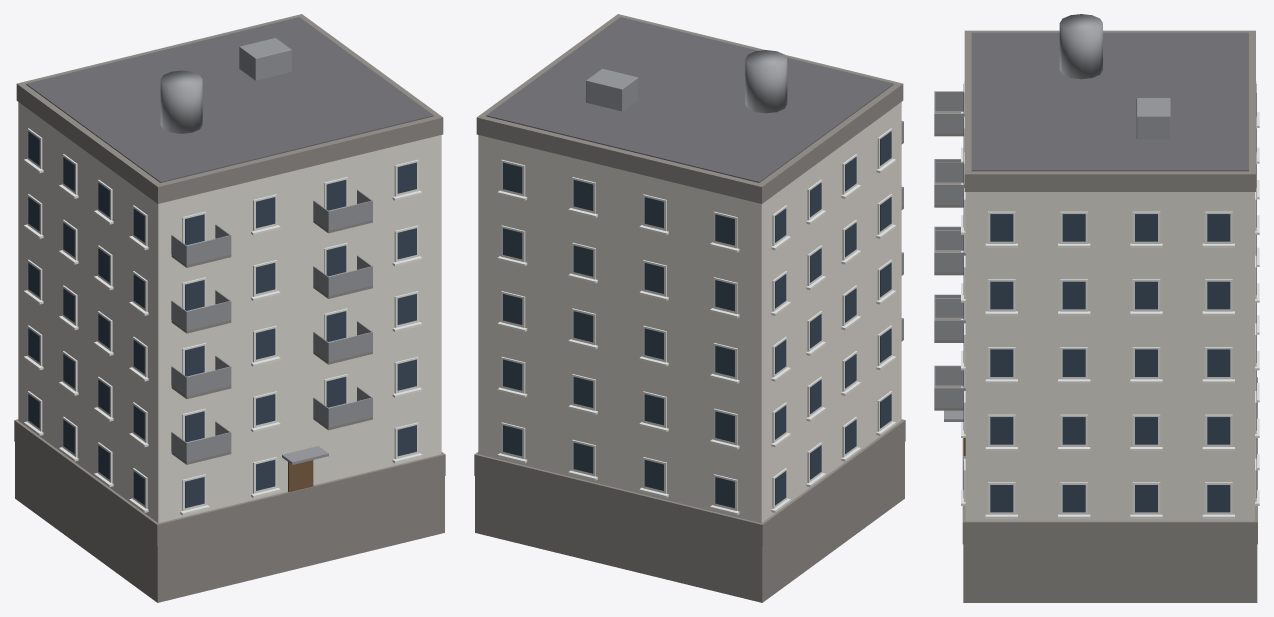
File: house_d.glb
The picture shows the model from 3 angles, left to right: view 1: azimuth 30°, elevation 25°; view 2: azimuth 150°, elevation 25°; view 3: azimuth 270°, elevation 25°; orthographic projection. The views are drawn at different scales.
Parts seen in each view (by area): view 1: house_d; view 2: house_d; view 3: house_d.
Part boxes in pixels (<box>): house_d: <box>14,14,445,602</box>; house_d: <box>474,14,905,602</box>; house_d: <box>934,14,1259,602</box>.
Size of the model in its own units: 14.4 by 21.8 by 13.5.
